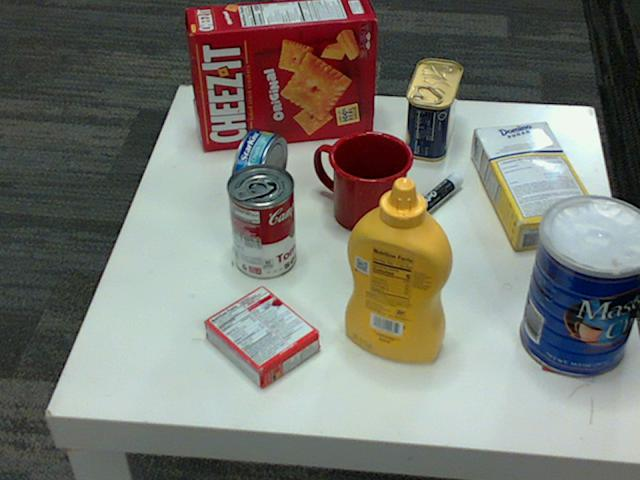cracker_box: (186, 0, 374, 148)
gelatin_box: (201, 285, 316, 390)
large_marker: (392, 176, 463, 235)
master_chef_can: (521, 196, 639, 378)
mug: (314, 129, 413, 232)
mustard_bottle: (344, 178, 453, 363)
potted_meat_can: (404, 60, 460, 161)
sugar_box: (471, 122, 601, 251)
tomato_soup_can: (227, 164, 295, 279)
tuna_fish_can: (230, 128, 286, 207)
